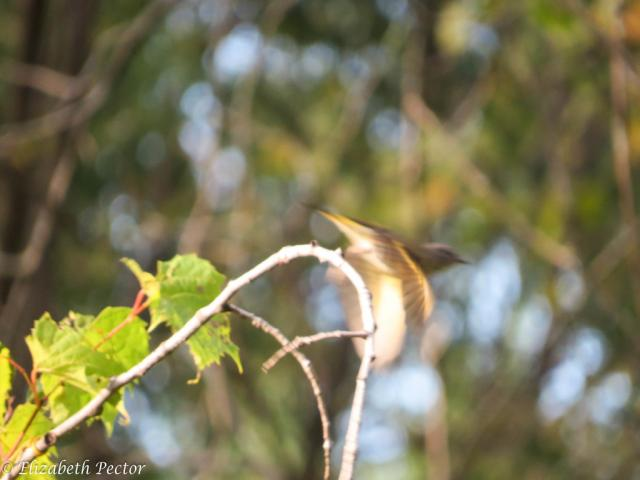Bird: (294, 200, 474, 376)
